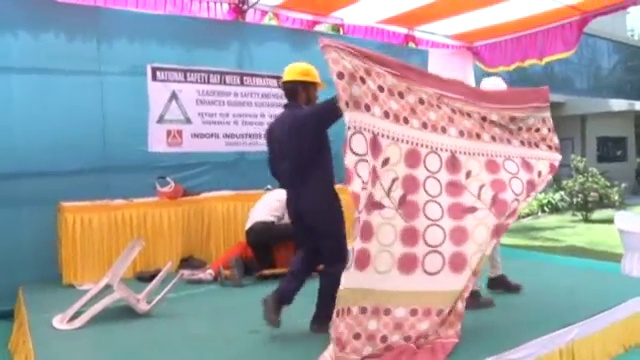helmet: (280, 60, 326, 91)
helmet_on: (279, 60, 326, 108)
person: (259, 60, 351, 337), (232, 186, 297, 286)
